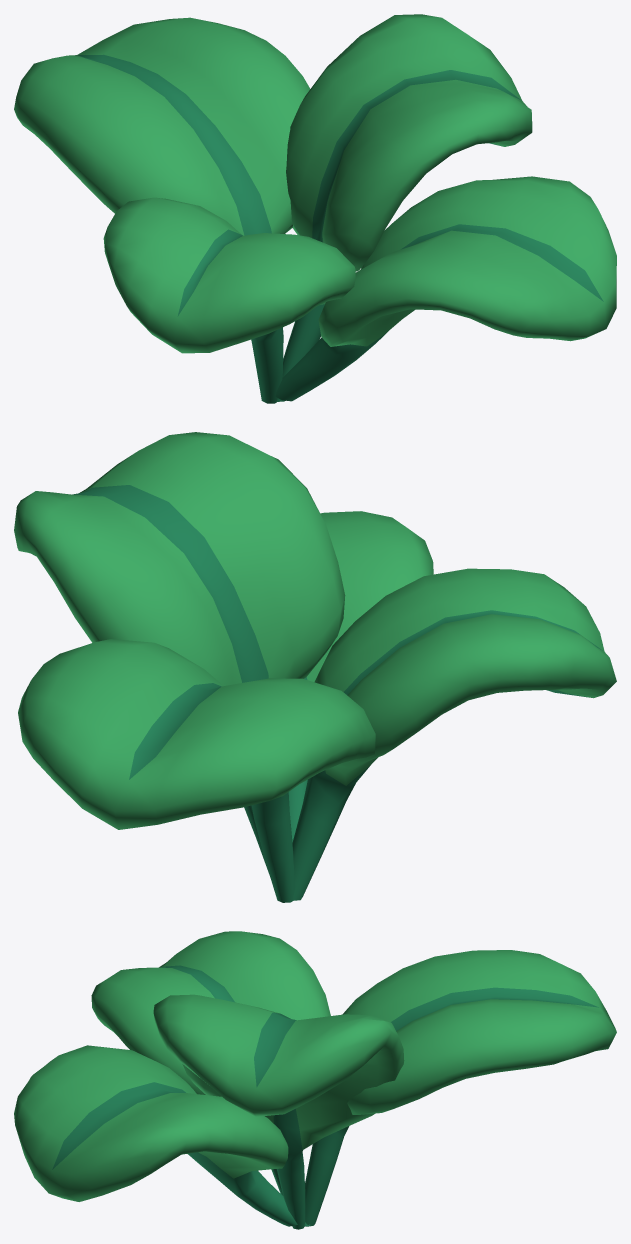
The model's file is Herb_A_02.fbx.
The picture shows the model from 3 angles, top to bottom: view 1: azimuth 30°, elevation 25°; view 2: azimuth 150°, elevation 25°; view 3: azimuth 270°, elevation 25°; orthographic projection. The views are drawn at different scales.
Parts seen in each view (by area): view 1: Herb_A_02_LOD0; view 2: Herb_A_02_LOD0; view 3: Herb_A_02_LOD0.
Boxes of the visible parts, x1,y1,x2,y2 form: Herb_A_02_LOD0: (14, 14, 616, 403); Herb_A_02_LOD0: (14, 432, 616, 902); Herb_A_02_LOD0: (14, 931, 616, 1229).
Size of what is drawn, in the model's own units: 558 by 374 by 731.
